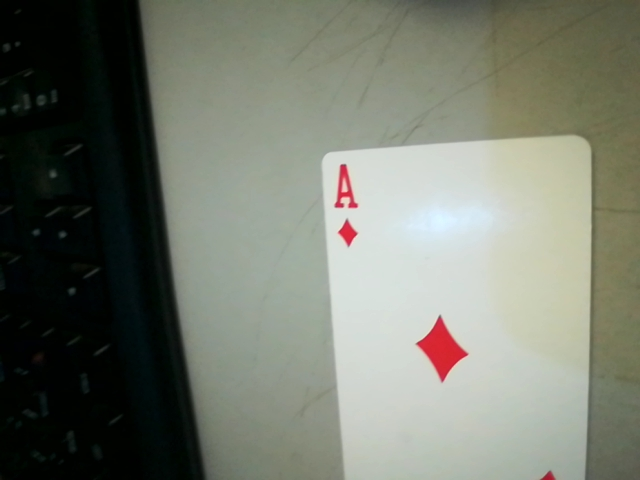fk a: (316, 158, 368, 254)
